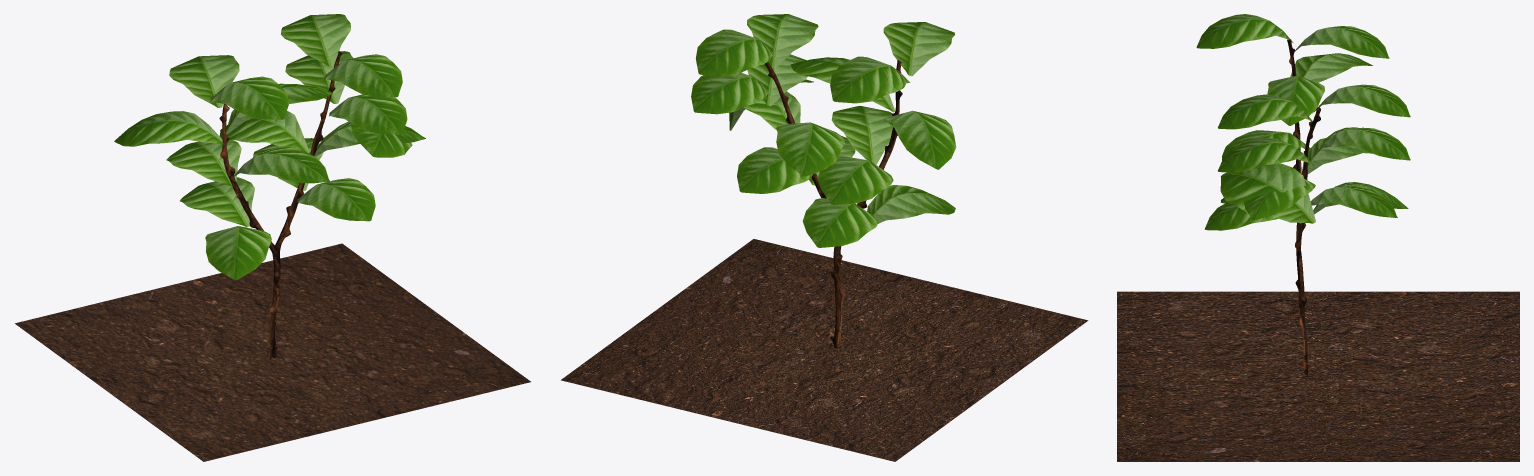
File: PLANT2.glb
3 renders of one model, left to right at view 1: azimuth 30°, elevation 25°; view 2: azimuth 150°, elevation 25°; view 3: azimuth 270°, elevation 25°, orthographic. The views are drawn at different scales.
Parts seen in each view (by area): view 1: Plane, 12972_Willow_Tree_Branch_v1_l2.003, Plane.035, Plane.031, Plane.027, Plane.026, Plane.028, Plane.020, Plane.032, Plane.024, Plane.029, Plane.034 (+6 smaller); view 2: Plane, Plane.023, Plane.029, Plane.027, Plane.034, Plane.033, Plane.031, Plane.025, Plane.028, Plane.032, Plane.021, Plane.026 (+5 smaller); view 3: Plane, Plane.015, Plane.024, Plane.026, Plane.028, Plane.027, Plane.025, Plane.029, Plane.021, 12972_Willow_Tree_Branch_v1_l2.003, Plane.030, Plane.031 (+5 smaller).
Part boxes in pixels (x1=…): Plane: x1=15, y1=243, x2=530, y2=461; 12972_Willow_Tree_Branch_v1_l2.003: x1=219, y1=51, x2=342, y2=359; Plane.035: x1=205, y1=226, x2=271, y2=280; Plane.031: x1=114, y1=111, x2=223, y2=146; Plane.027: x1=280, y1=14, x2=350, y2=66; Plane.026: x1=324, y1=54, x2=402, y2=97; Plane.028: x1=210, y1=76, x2=288, y2=119; Plane.020: x1=297, y1=178, x2=375, y2=221; Plane.032: x1=234, y1=146, x2=329, y2=183; Plane.024: x1=329, y1=94, x2=407, y2=134; Plane.029: x1=169, y1=55, x2=239, y2=107; Plane.034: x1=180, y1=177, x2=254, y2=227; Plane: x1=561, y1=239, x2=1088, y2=461; Plane.023: x1=776, y1=122, x2=844, y2=176; Plane.029: x1=830, y1=56, x2=910, y2=103; Plane.027: x1=695, y1=29, x2=775, y2=76; Plane.034: x1=802, y1=198, x2=878, y2=247; Plane.033: x1=817, y1=155, x2=893, y2=204; Plane.031: x1=886, y1=110, x2=956, y2=169; Plane.025: x1=691, y1=72, x2=770, y2=114; Plane.028: x1=883, y1=22, x2=954, y2=76; Plane.032: x1=831, y1=106, x2=892, y2=164; Plane.021: x1=737, y1=147, x2=816, y2=193; Plane.026: x1=747, y1=14, x2=818, y2=68; Plane: x1=1117, y1=291, x2=1519, y2=461; Plane.015: x1=1220, y1=163, x2=1315, y2=223; Plane.024: x1=1218, y1=137, x2=1314, y2=172; Plane.026: x1=1218, y1=94, x2=1312, y2=129; Plane.028: x1=1196, y1=14, x2=1293, y2=48; Plane.027: x1=1312, y1=84, x2=1410, y2=117; Plane.025: x1=1312, y1=127, x2=1410, y2=160; Plane.029: x1=1294, y1=26, x2=1389, y2=58; Plane.021: x1=1310, y1=185, x2=1397, y2=217; 12972_Willow_Tree_Branch_v1_l2.003: x1=1289, y1=58, x2=1320, y2=374; Plane.030: x1=1267, y1=75, x2=1324, y2=125; Plane.031: x1=1290, y1=53, x2=1372, y2=82.
Size of the model in its own units: 2.13 by 2.14 by 2.13.
3 materials, 3 textured.
